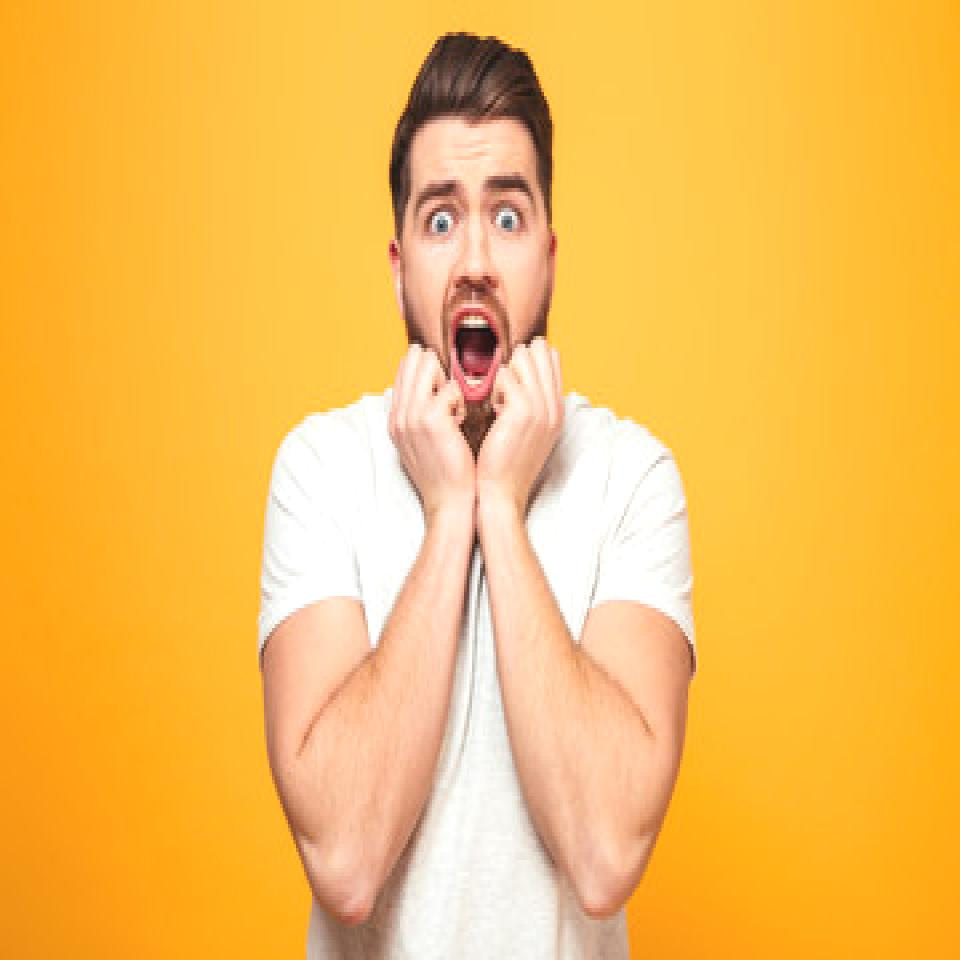Scared: (389, 130, 555, 488)
